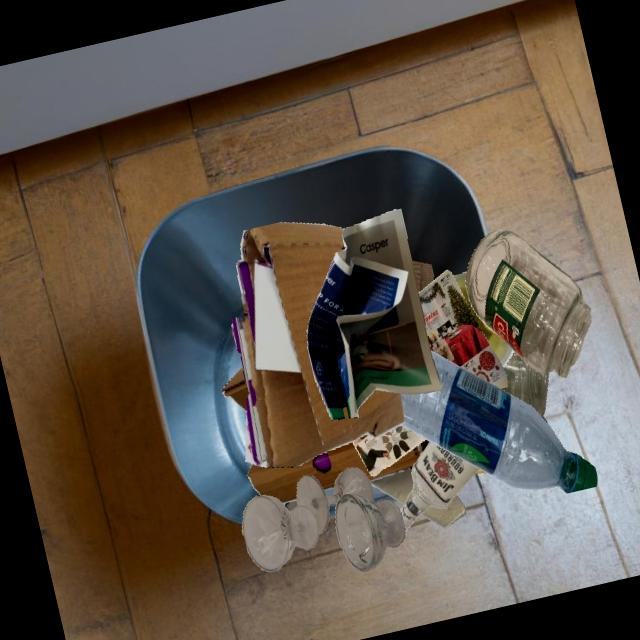cardboard: (231, 222, 404, 467), (247, 441, 423, 503), (369, 467, 413, 504), (421, 494, 465, 528), (411, 260, 433, 293)
glass: (465, 229, 591, 377), (399, 441, 479, 531), (241, 494, 319, 572), (453, 271, 514, 367), (426, 421, 546, 468), (335, 493, 405, 572), (296, 467, 373, 533), (499, 350, 548, 418), (287, 499, 297, 512)
paper: (306, 208, 442, 419), (418, 270, 507, 388), (352, 425, 426, 475)
plastic: (400, 349, 597, 493)
